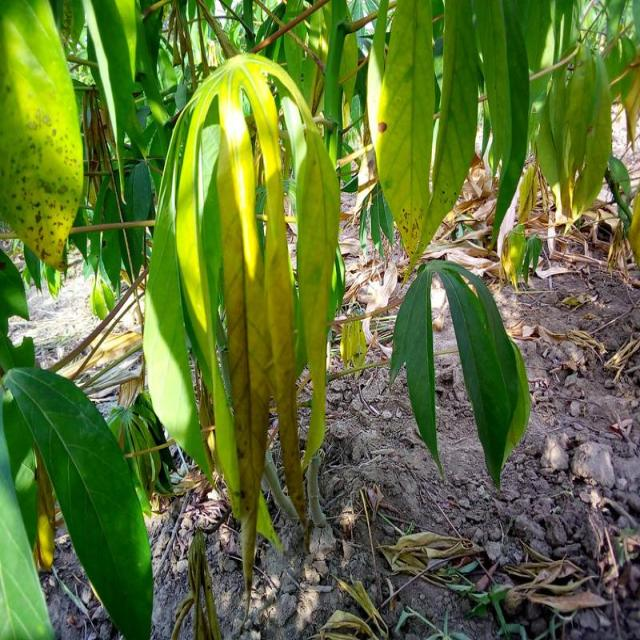cassava leaf: (142, 50, 342, 610), (0, 364, 154, 638), (388, 258, 530, 491), (0, 0, 84, 271)
